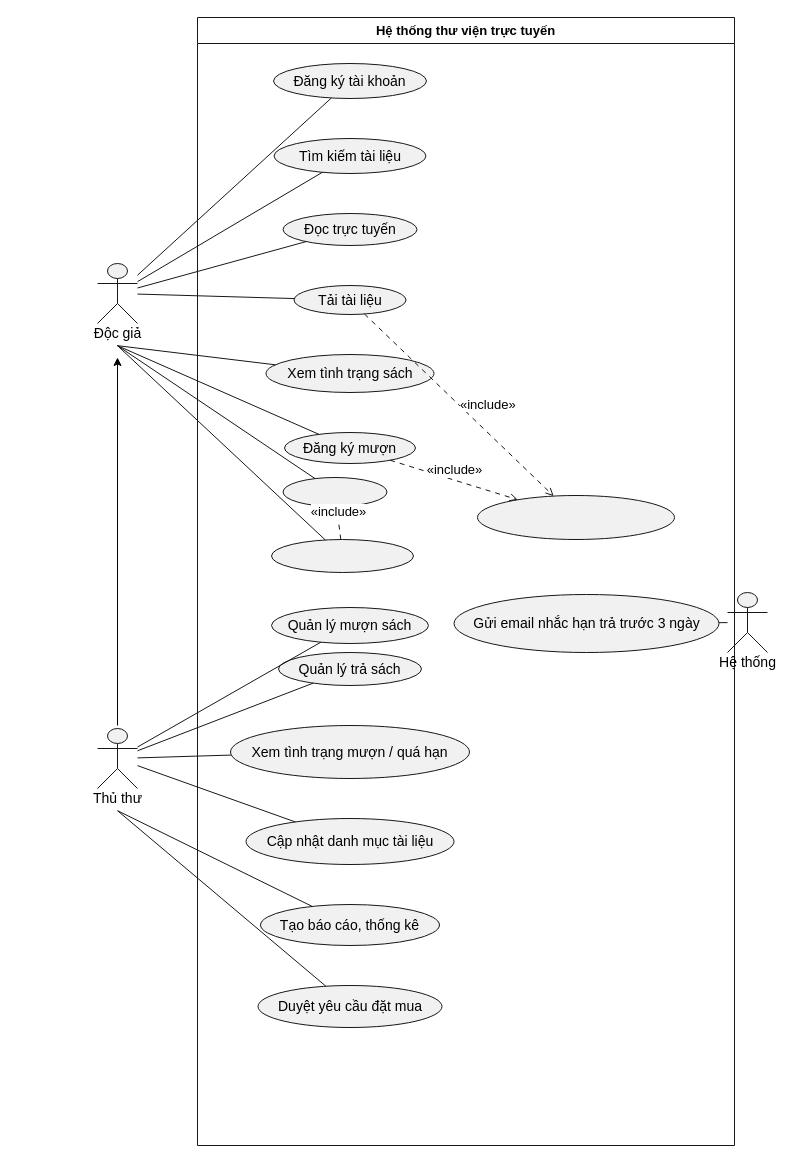
Image size: 798x1163. Some labels were removed from this diagram. The shapes that lost their labels are listed below. From the top down, each one's centre as x and y in pixels, then its label:
(x=334, y=491): Đăng nhập
(x=575, y=517): Xác thực mã thẻ thư viện
(x=342, y=555): Đặt mua tài liệu
